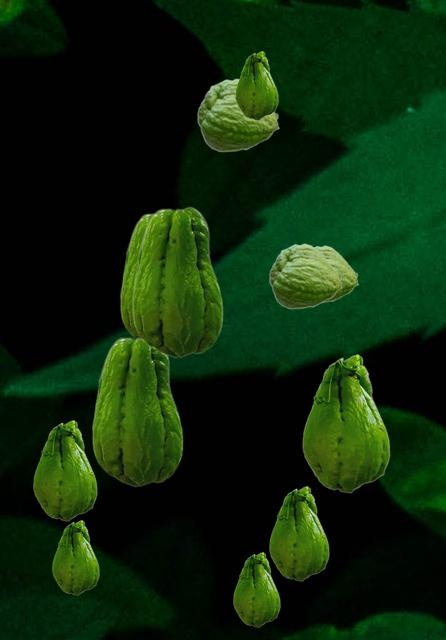sayote: (132, 206, 222, 357), (92, 336, 182, 486), (302, 354, 389, 492), (33, 420, 96, 520), (197, 78, 279, 151), (269, 486, 328, 580), (269, 243, 342, 308), (120, 212, 153, 336), (233, 552, 279, 626), (52, 520, 98, 594), (235, 51, 277, 119), (314, 245, 358, 302)
